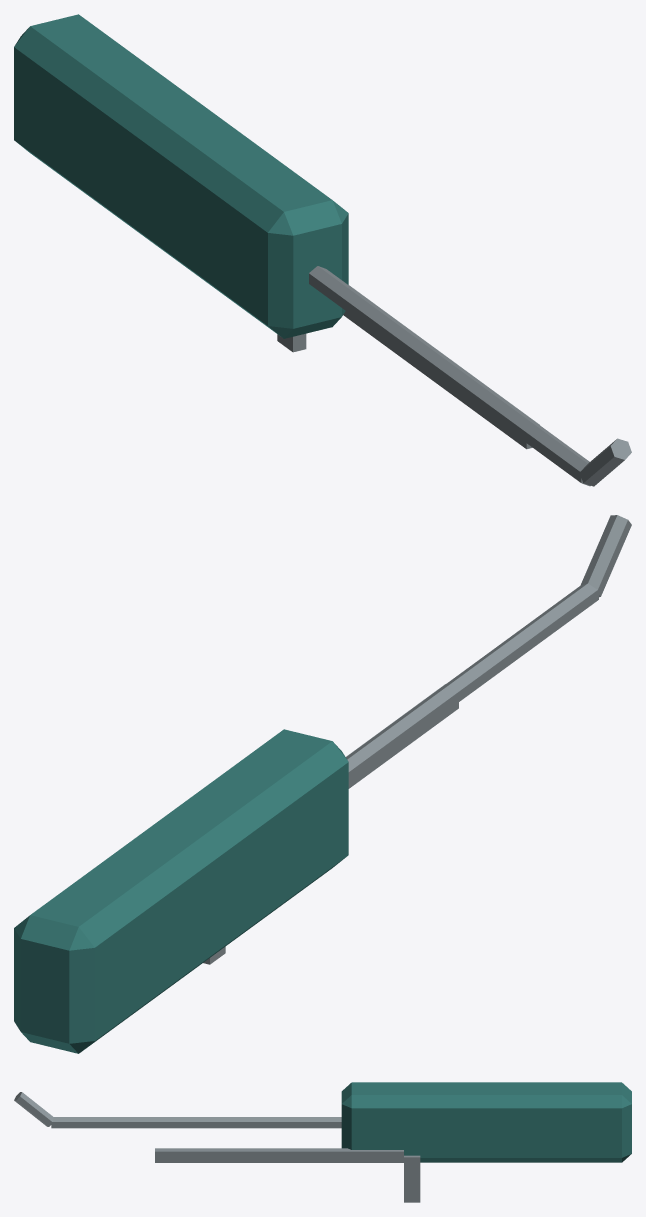
The model's file is Tool_Lockpick.fbx.
The picture shows the model from 3 angles, top to bottom: view 1: azimuth 30°, elevation 25°; view 2: azimuth 150°, elevation 25°; view 3: azimuth 270°, elevation 25°; orthographic projection. The views are drawn at different scales.
Parts seen in each view (by area): view 1: Handle.001, Pick, Tension, PickTip; view 2: Handle.001, Pick, PickTip, Tension; view 3: Handle.001, Tension, Pick, TensionBend, PickTip.
Boxes of the visible parts, x1,y1,x2,y2 form: Handle.001: [14, 14, 348, 338]; Pick: [309, 266, 590, 486]; Tension: [343, 285, 539, 449]; PickTip: [579, 438, 631, 486]; Handle.001: [14, 729, 348, 1053]; Pick: [346, 583, 598, 782]; PickTip: [580, 515, 631, 597]; Tension: [346, 684, 458, 788]; Handle.001: [341, 1082, 631, 1162]; Tension: [155, 1148, 403, 1162]; Pick: [51, 1117, 341, 1128]; TensionBend: [404, 1155, 420, 1202]; PickTip: [14, 1092, 53, 1126].
Bounding box in the file's own units: 0.013 × 0.027 × 0.149.
